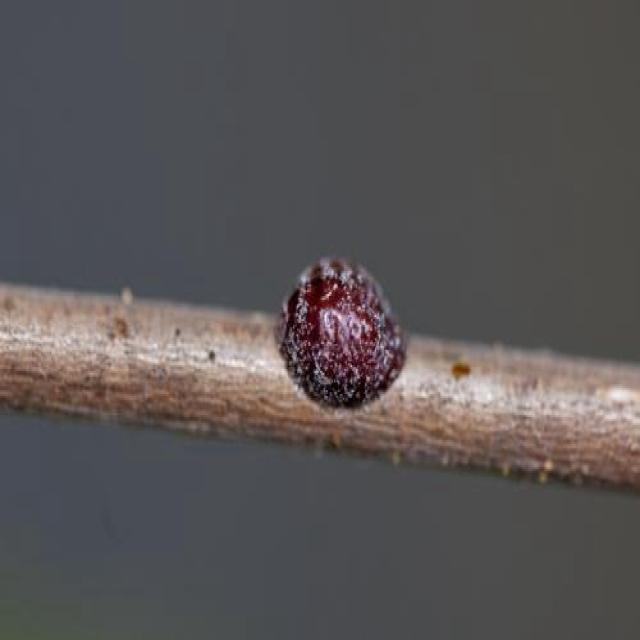Black Scale: (276, 256, 406, 407)
